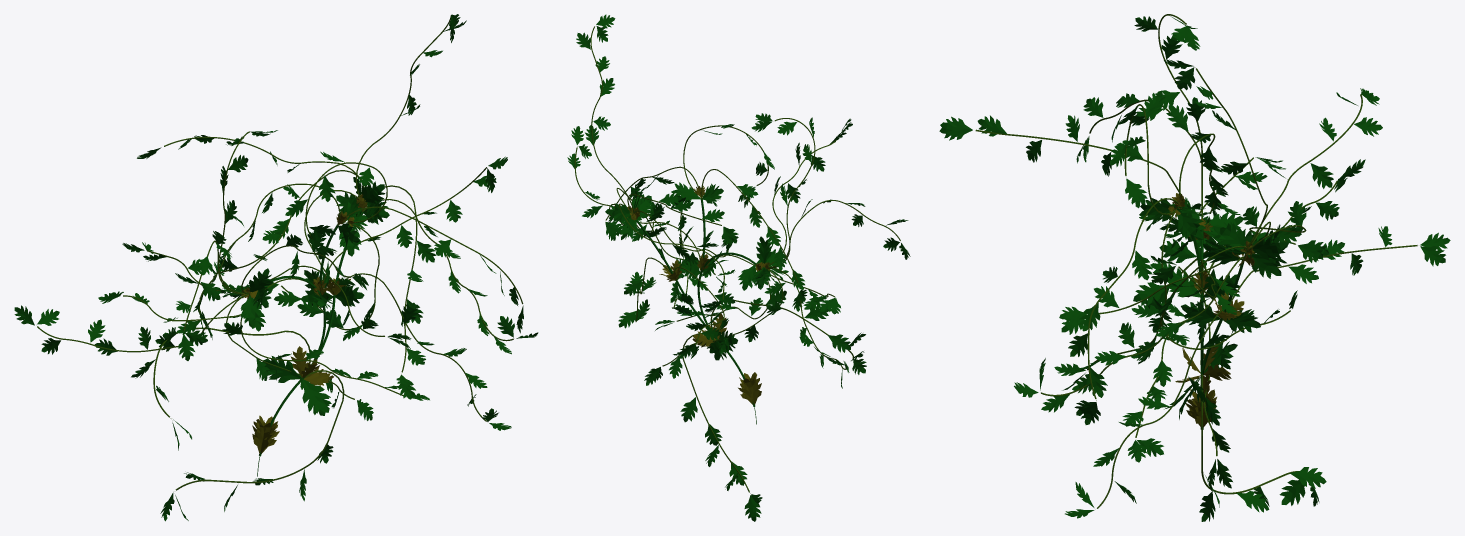
File: plants1.obj
3 views of the same model, side by side, from view 1: azimuth 30°, elevation 25°; view 2: azimuth 150°, elevation 25°; view 3: azimuth 270°, elevation 25° (orthographic). The views are drawn at different scales.
Visible parts, largest first — view 1: 1Breeder; view 2: 1Breeder; view 3: 1Breeder.
Part boxes in pixels (x1,y1,x2,y2): 1Breeder: (14,14,538,521); 1Breeder: (567,14,910,521); 1Breeder: (939,14,1450,521).
Bounding box in the file's own units: 814 × 938 × 745.
